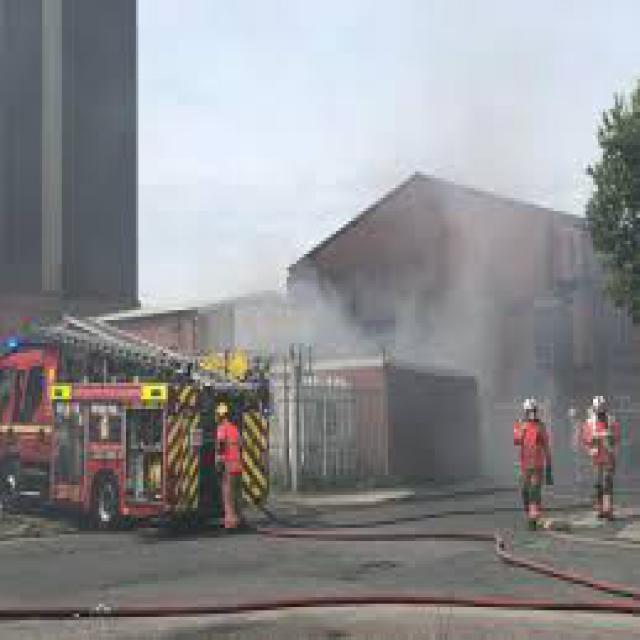smoke: (168, 152, 502, 353)
